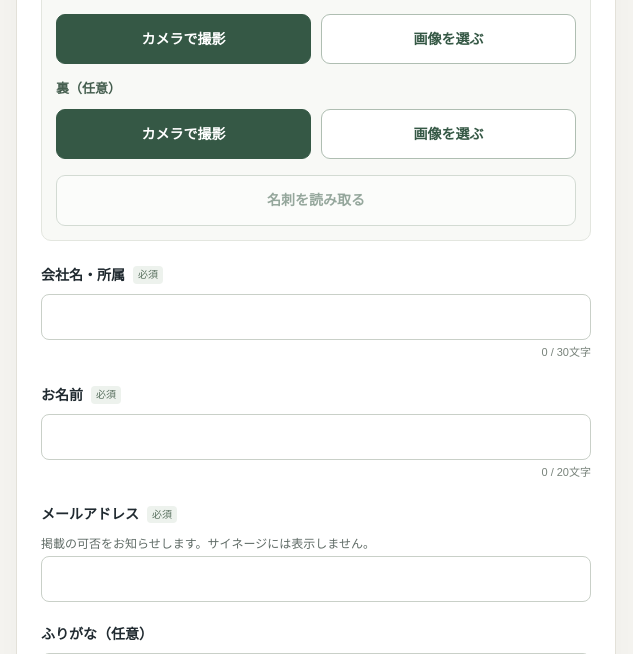
Test case: 本人登録フォーム › 必須3項目と同意だけで正規化済み内容を送り、完了後は結果メールを案内する
This screenshot has width=633, height=654.
(page scrolled)
Type " 株式会社サンプル " into the field labelled "会社名・所属" at (316, 318), box [41, 294, 591, 340]
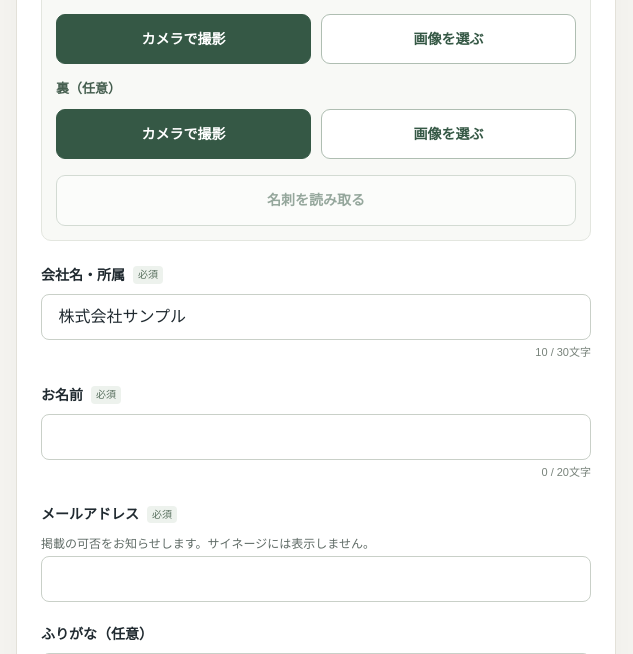
Type "山田 太郎" into the field labelled "お名前" at (316, 437), box [41, 414, 591, 460]
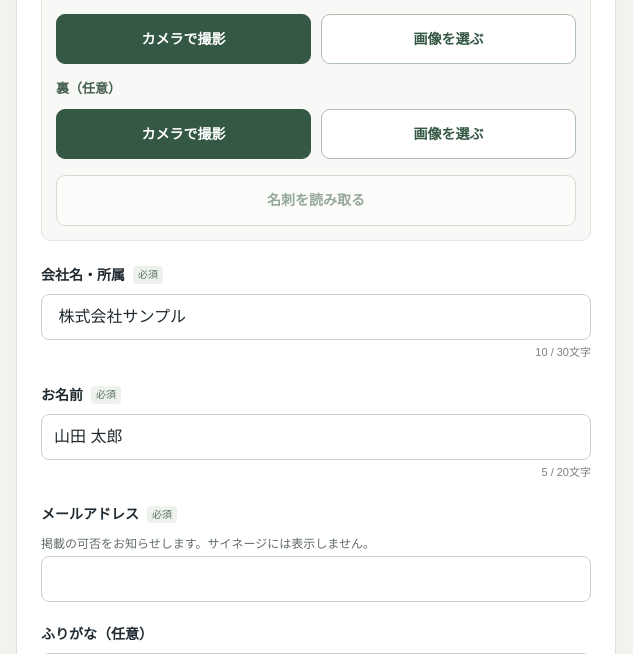
Type " member@example.com " into the field labelled "メールアドレス" at (316, 579), box [41, 556, 591, 602]
(page scrolled)
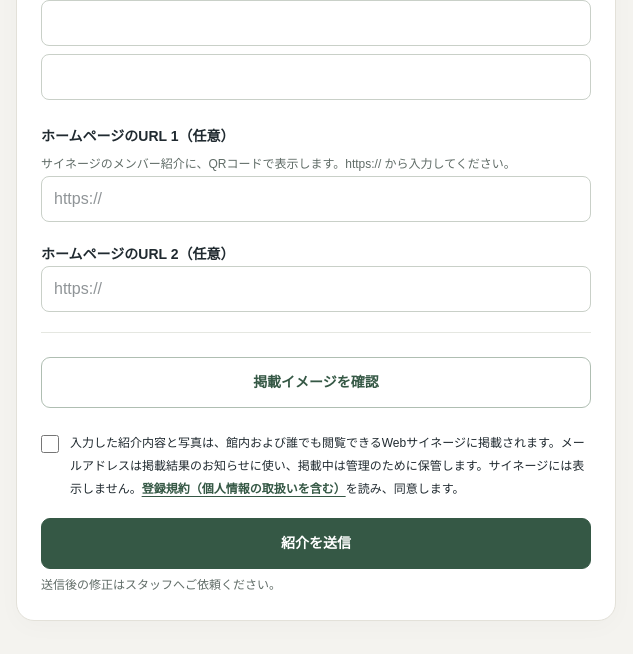
Click the checkbox at (50, 444), box [41, 435, 59, 453]
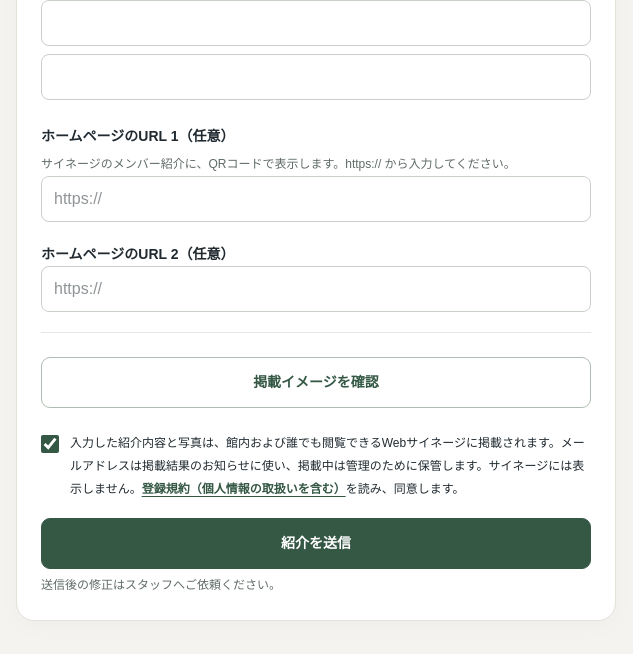
Click the button "紹介を送信" at (316, 544), box [41, 518, 591, 569]
(page scrolled)
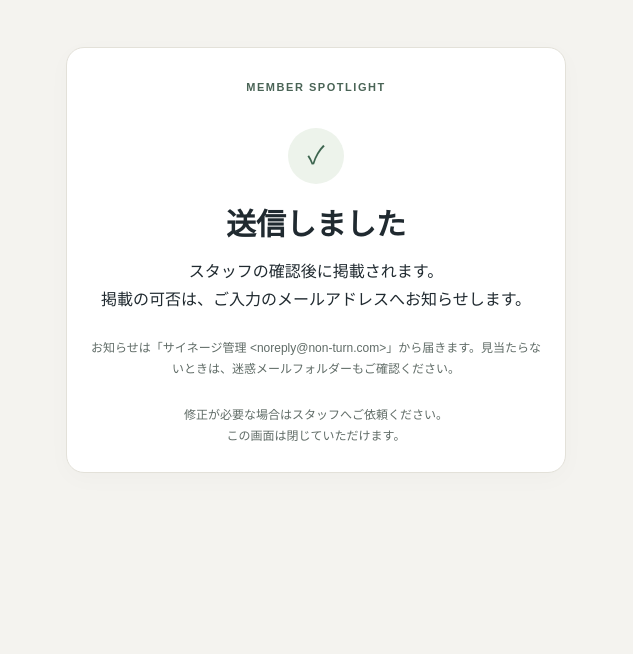
Result: the heading "送信しました" is shown at [226, 208, 406, 241]
Result: the button "紹介を送信" is gone
Result: the text "修正が必要な場合はスタッフへご依頼ください。この画面は閉じていただけます。" is shown at [184, 408, 448, 422]
